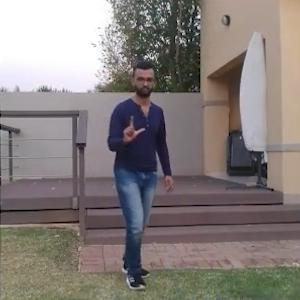land_hand: (116, 110, 149, 148)
